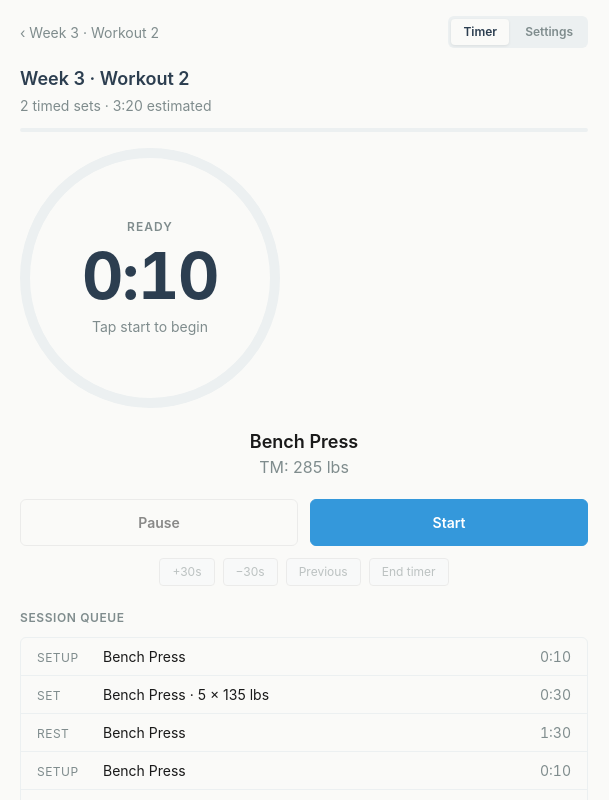
Scenario: WorkoutTimerView › starts, pauses and resumes
Click the button "Start".
click(449, 522)  # box top-left (310, 498), bottom-right (588, 546)
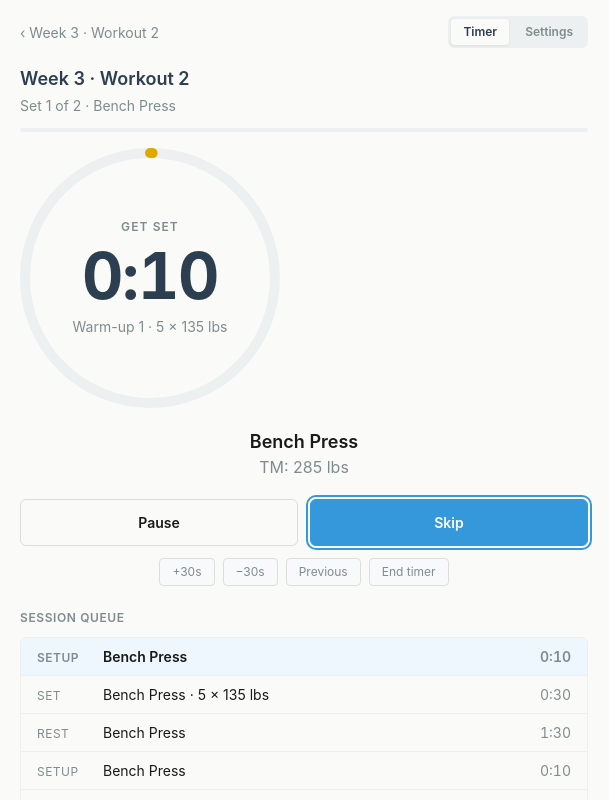
Expected: the text "Set 1 of 2 · Bench Press" is shown, top-left (20, 96), bottom-right (176, 114)
Click the button "Pause".
click(159, 522)  # box top-left (20, 498), bottom-right (298, 546)
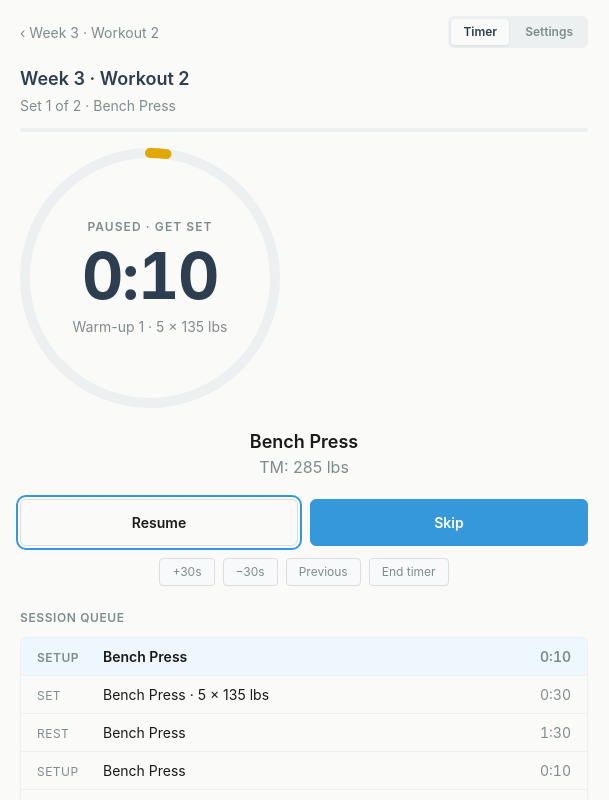
Expected: the text "Paused · Get set" is shown, top-left (87, 218), bottom-right (213, 236)
Click the button "Resume".
click(159, 522)  # box top-left (20, 498), bottom-right (298, 546)
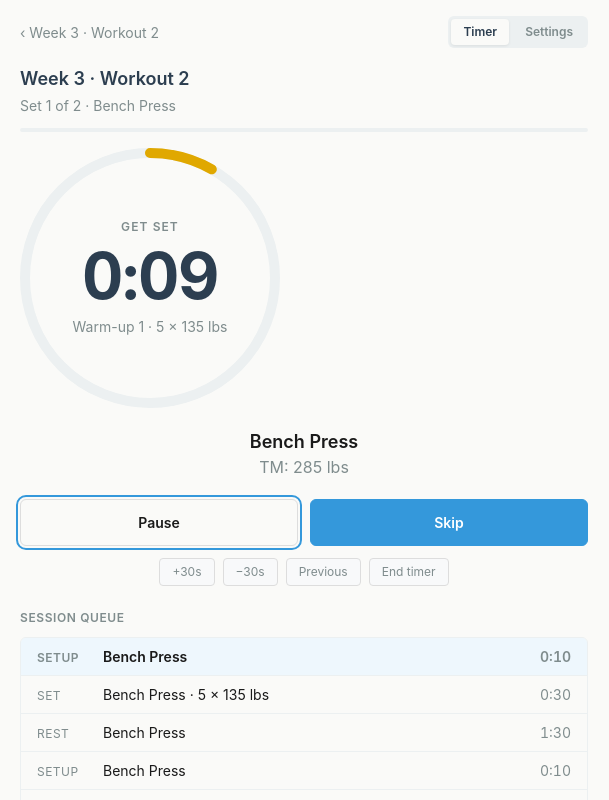
Expected: the text "Paused ·" is gone
